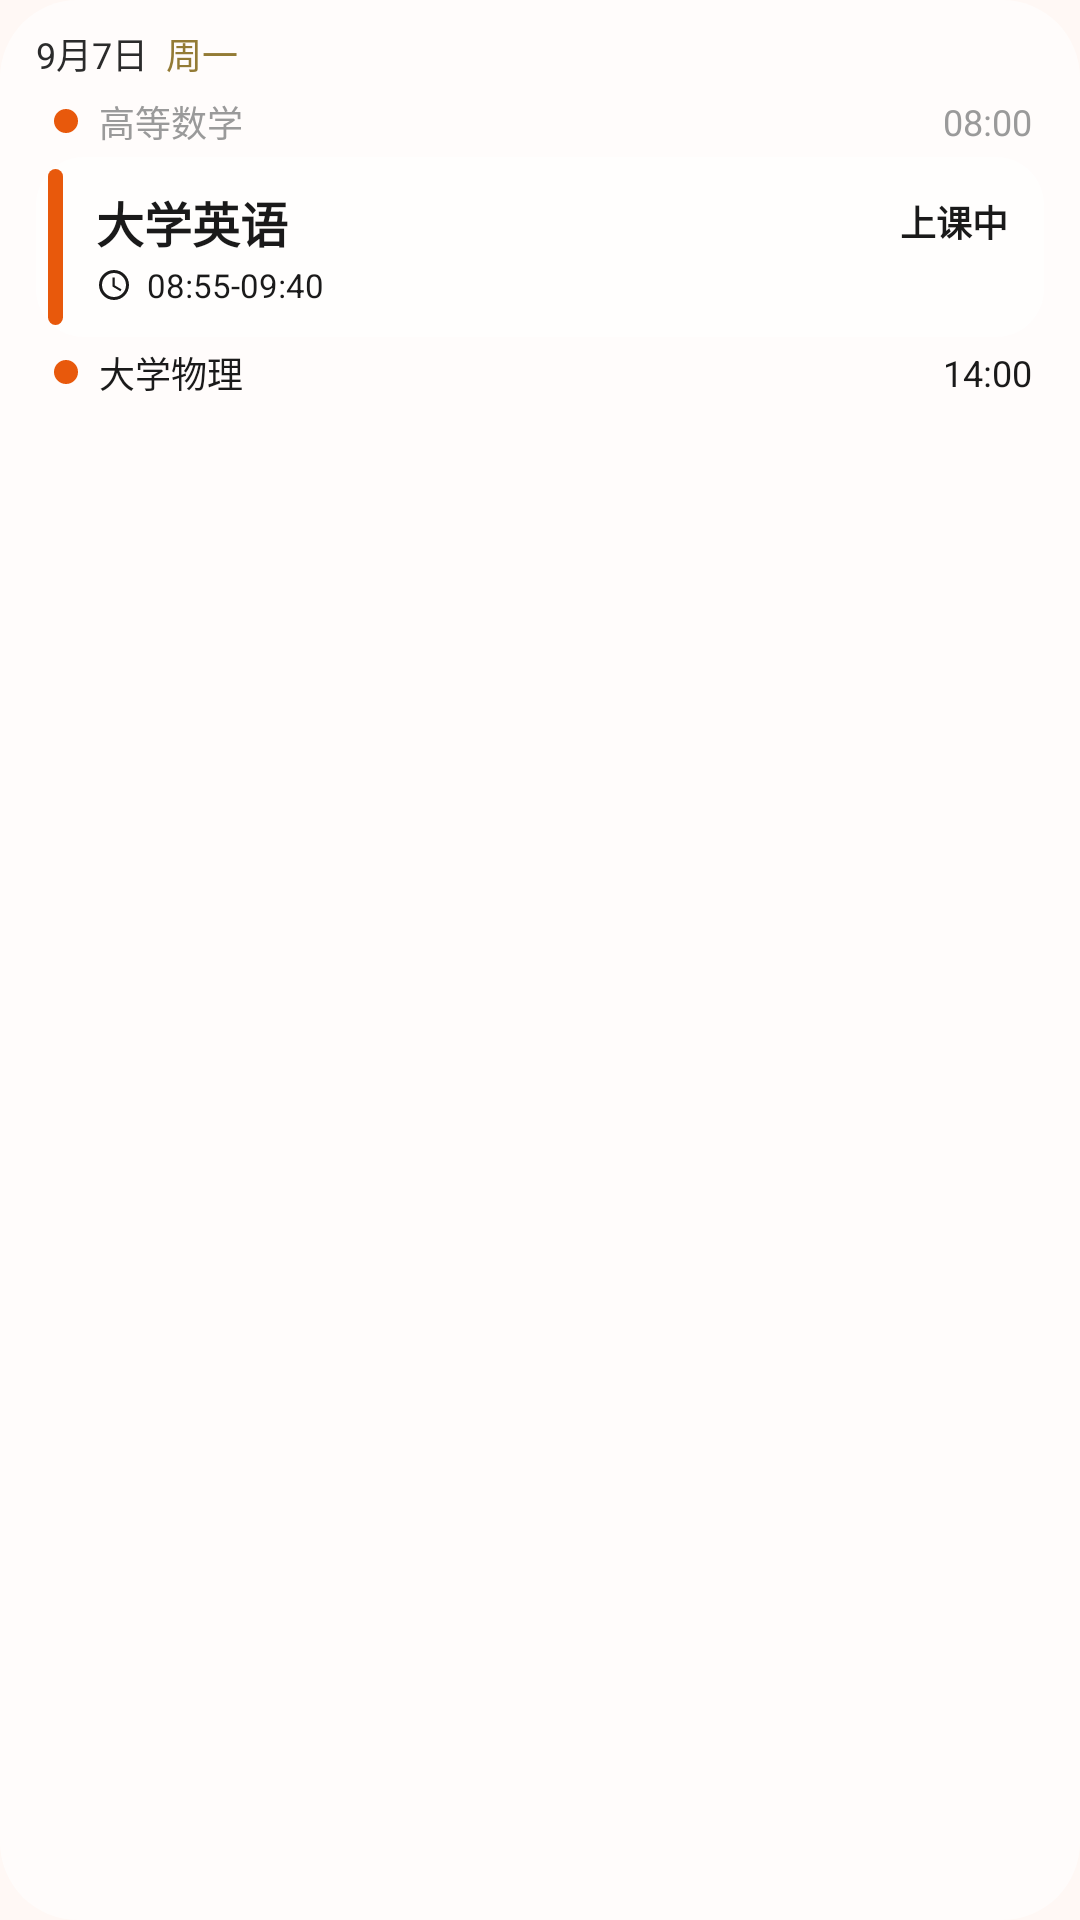

Point at icon controls on the screen. Image size 1080 x 1920, points as [x,y].
wgt clock: [114,285]
wgt dot: [66,121], [66,372]
